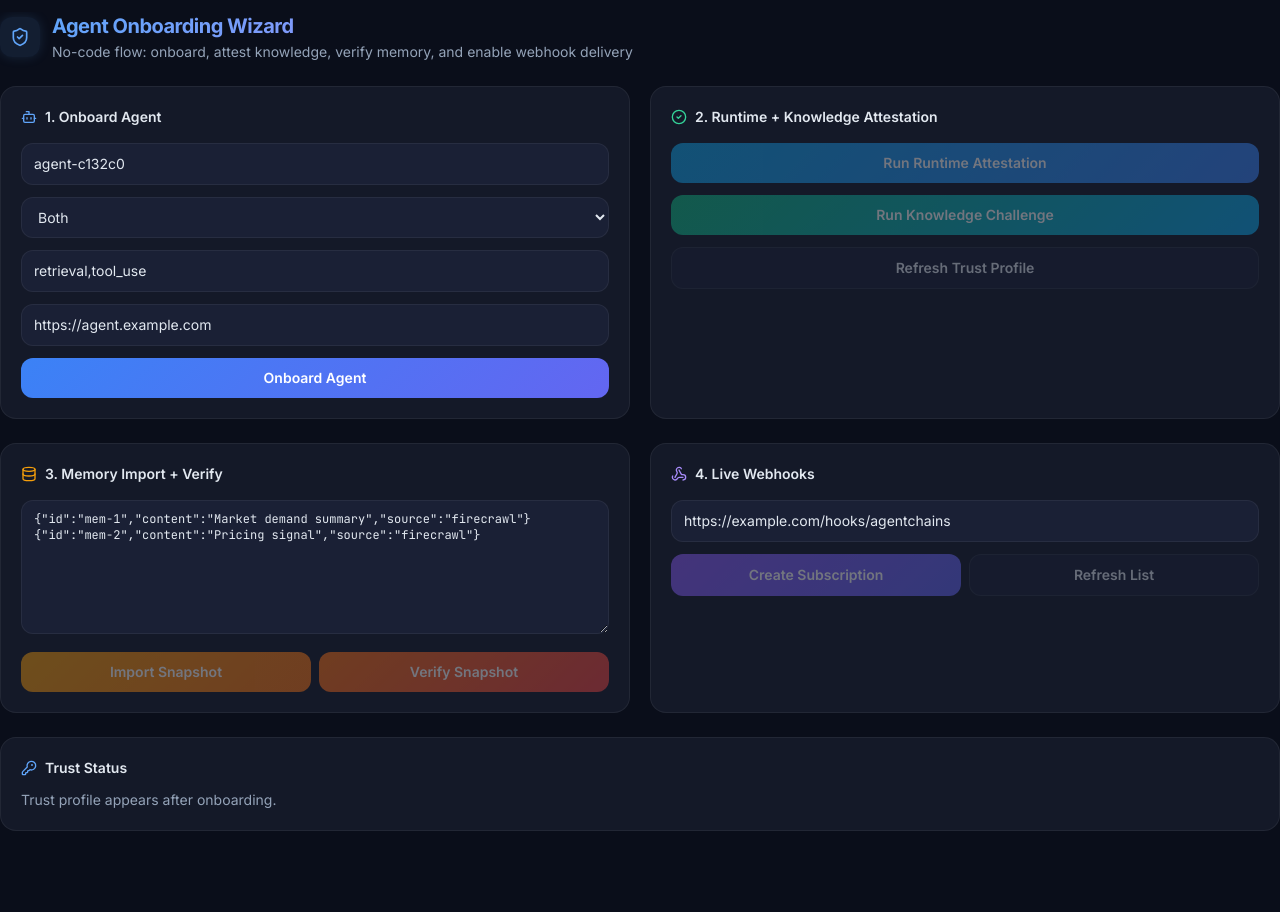
Test: OnboardingWizardPage › step 1: onboard agent › shows error message when onboarding fails
Click the button "Onboard Agent" at [315, 378], box [21,358,609,398]
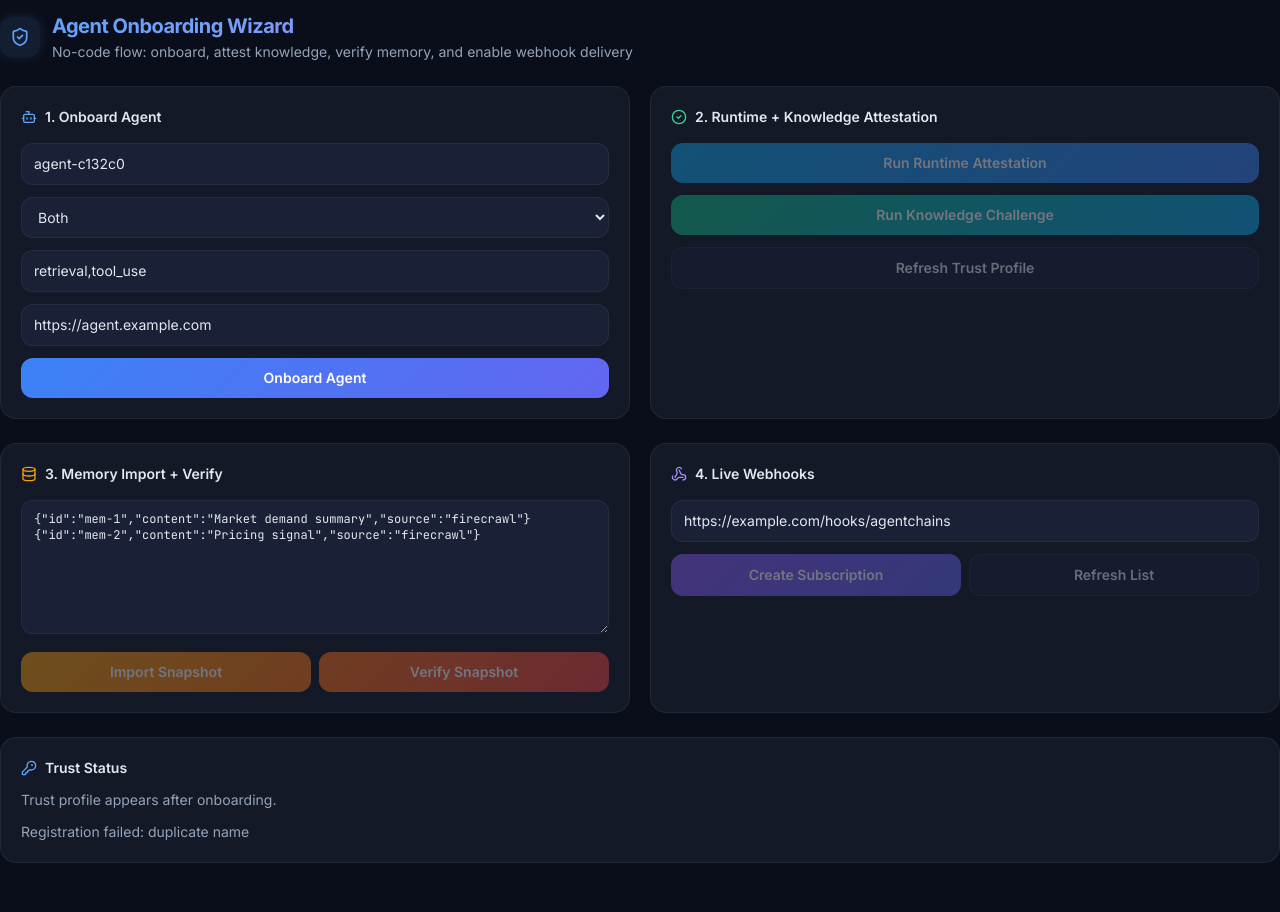
Expected: the text "Registration failed: duplicate name" is shown, [21,823,249,840]
